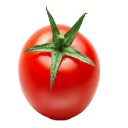tomato: (19, 23, 100, 120)
